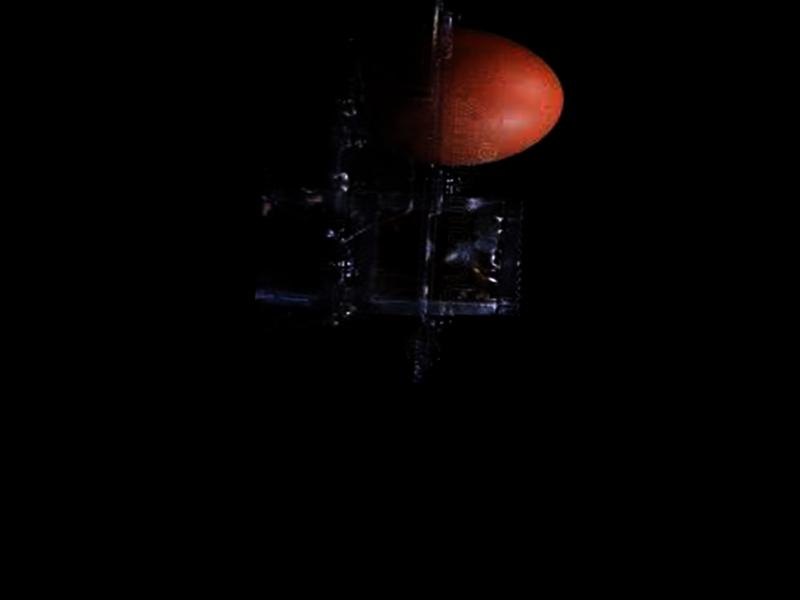Eggs: (353, 18, 568, 171)
